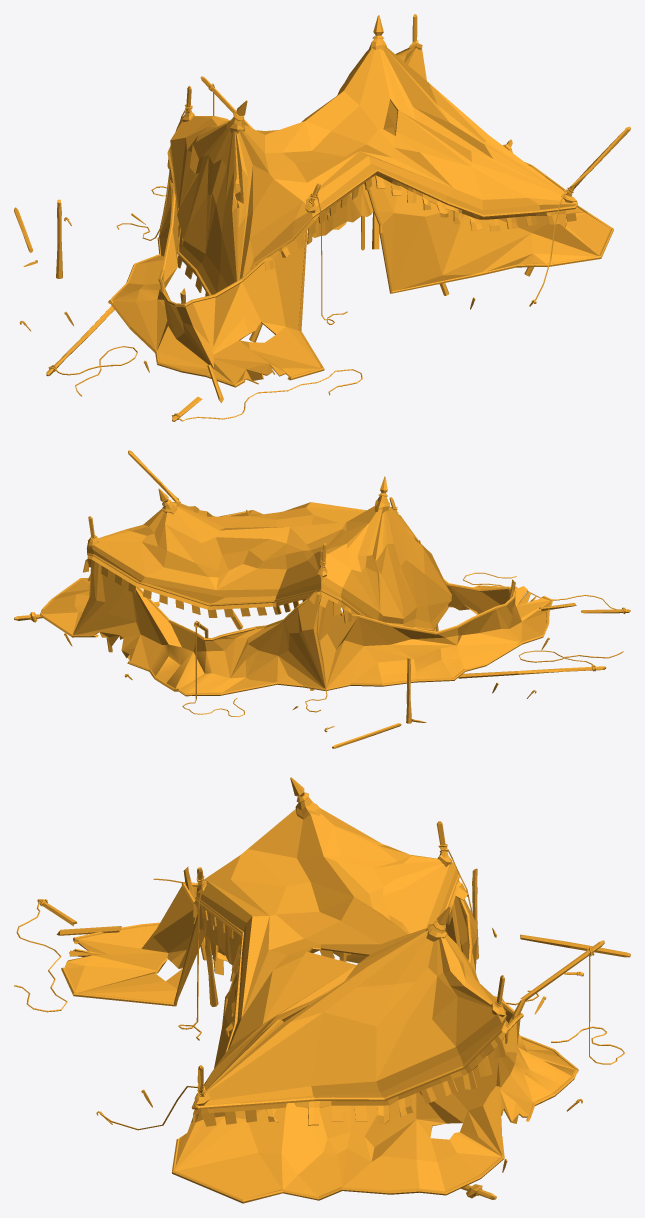
The model's file is SM_Tent_Royal_Striped_Destroyed_Fantasy.fbx.
3 views of the same model, one above another, from view 1: azimuth 30°, elevation 25°; view 2: azimuth 150°, elevation 25°; view 3: azimuth 270°, elevation 25° (orthographic). The views are drawn at different scales.
Parts seen in each view (by area): view 1: tent-royal-striped-destroyed-fantasy; view 2: tent-royal-striped-destroyed-fantasy; view 3: tent-royal-striped-destroyed-fantasy.
Part boxes in pixels (x1=…): tent-royal-striped-destroyed-fantasy: x1=14, y1=14, x2=630, y2=421; tent-royal-striped-destroyed-fantasy: x1=14, y1=450, x2=630, y2=748; tent-royal-striped-destroyed-fantasy: x1=14, y1=777, x2=630, y2=1203.
Bounding box in the file's own units: 14.65 × 5.06 × 11.55.
